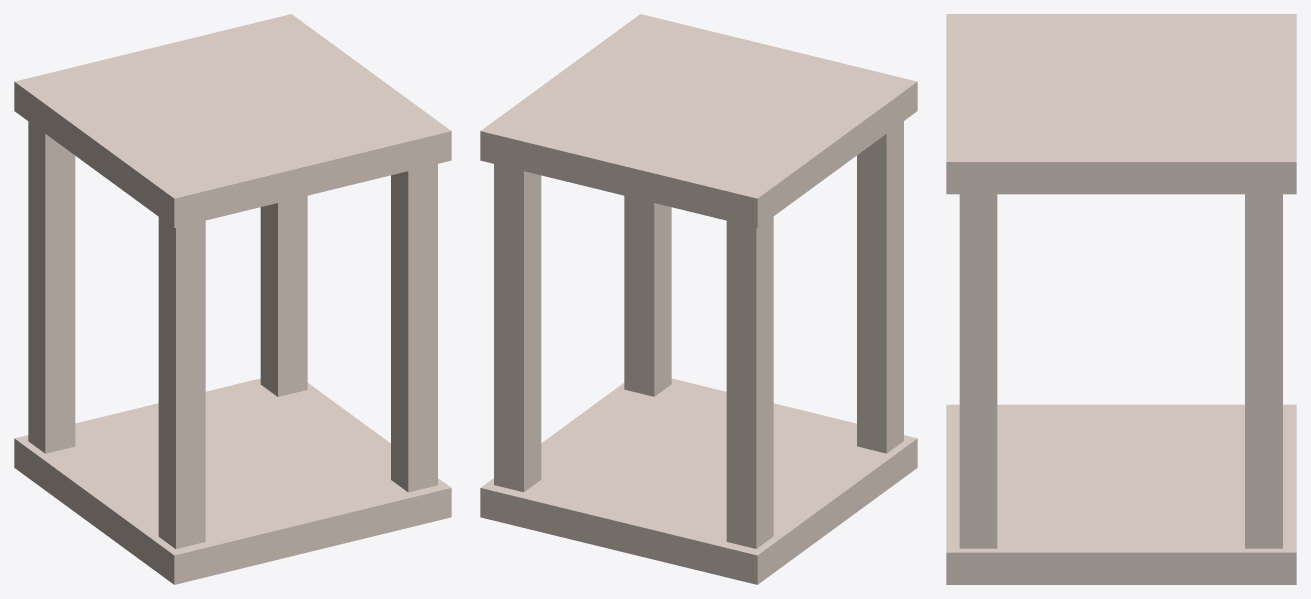
Rendered from Table_8.fbx.
3 views of the same model, side by side, from view 1: azimuth 30°, elevation 25°; view 2: azimuth 150°, elevation 25°; view 3: azimuth 270°, elevation 25° (orthographic). The views are drawn at different scales.
Visible parts, largest first — view 1: Table_8; view 2: Table_8; view 3: Table_8.
Boxes of the visible parts, box(x1,y1,x2,y2) form: Table_8: box(14, 14, 451, 584); Table_8: box(480, 14, 917, 584); Table_8: box(946, 14, 1296, 584).
Size of the model in its own units: 87.34 by 87.34 by 116.
